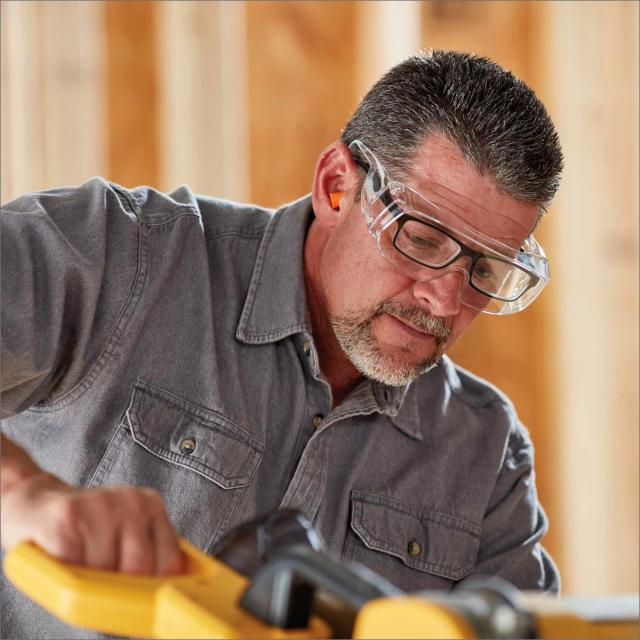Person: (2, 52, 563, 607)
